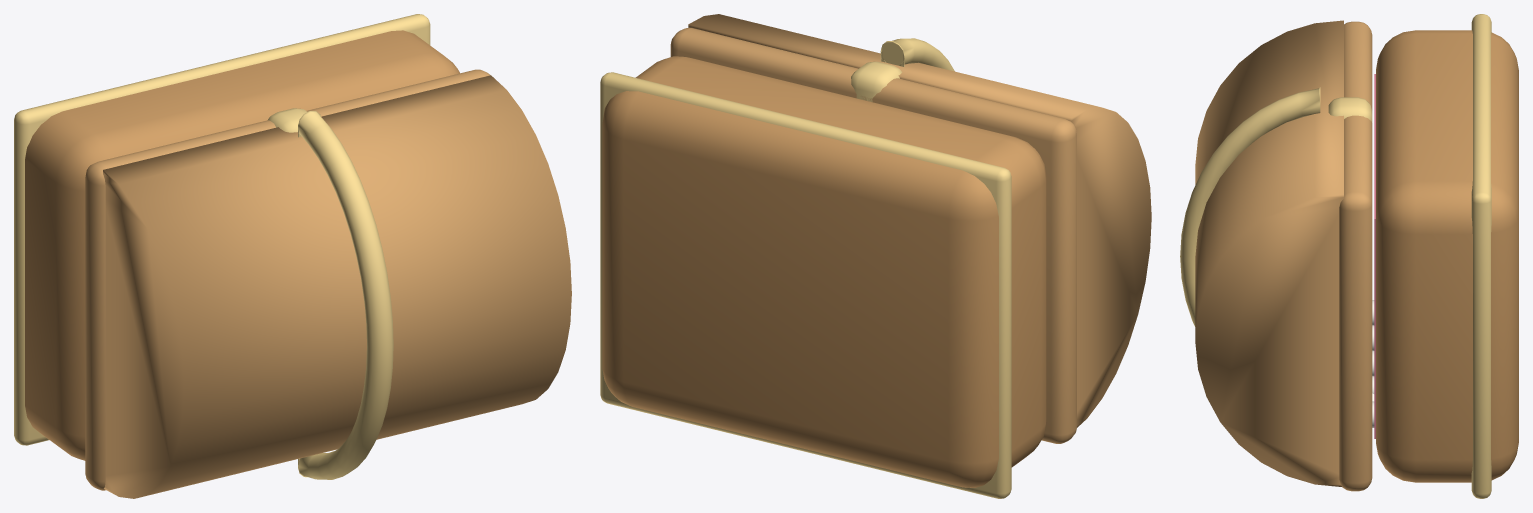
Rendered from chest.glb.
The picture shows the model from 3 angles, left to right: view 1: azimuth 30°, elevation 25°; view 2: azimuth 150°, elevation 25°; view 3: azimuth 270°, elevation 25°; orthographic projection. The views are drawn at different scales.
Visible parts, largest first — view 1: LidRound, Box, LidArch, LidBox, Band, LidBand; view 2: Box, LidRound, LidBox, Band, LidArch, LidBand; view 3: Box, LidRound, LidBox, Band, LidArch, LidBand, Gullet.
Boxes of the visible parts, bbox=[...] form: LidRound: bbox=[103, 75, 571, 498]; Box: bbox=[25, 30, 459, 460]; LidArch: bbox=[298, 111, 393, 479]; LidBox: bbox=[85, 69, 490, 490]; Band: bbox=[14, 14, 430, 445]; LidBand: bbox=[268, 108, 306, 132]; Box: bbox=[602, 56, 1046, 487]; LidRound: bbox=[688, 14, 1151, 427]; LidBox: bbox=[670, 28, 1076, 443]; Band: bbox=[600, 72, 1011, 498]; LidArch: bbox=[880, 38, 954, 71]; LidBand: bbox=[851, 61, 902, 101]; Box: bbox=[1376, 30, 1518, 482]; LidRound: bbox=[1195, 20, 1343, 487]; LidBox: bbox=[1339, 21, 1372, 491]; Band: bbox=[1471, 14, 1491, 498]; LidArch: bbox=[1180, 87, 1320, 326]; LidBand: bbox=[1328, 97, 1372, 122]; Gullet: bbox=[1374, 74, 1375, 438].
Size of the model in its own units: 1.53 by 1.3 by 1.18.
